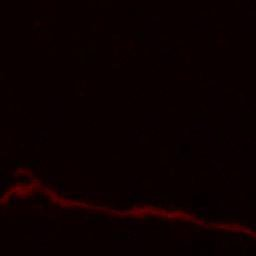debris: (141, 204, 196, 220), (94, 203, 143, 219), (53, 196, 97, 209), (198, 216, 235, 230), (1, 184, 31, 198), (234, 222, 256, 238), (32, 182, 52, 196), (16, 167, 36, 179), (1, 199, 12, 207)
